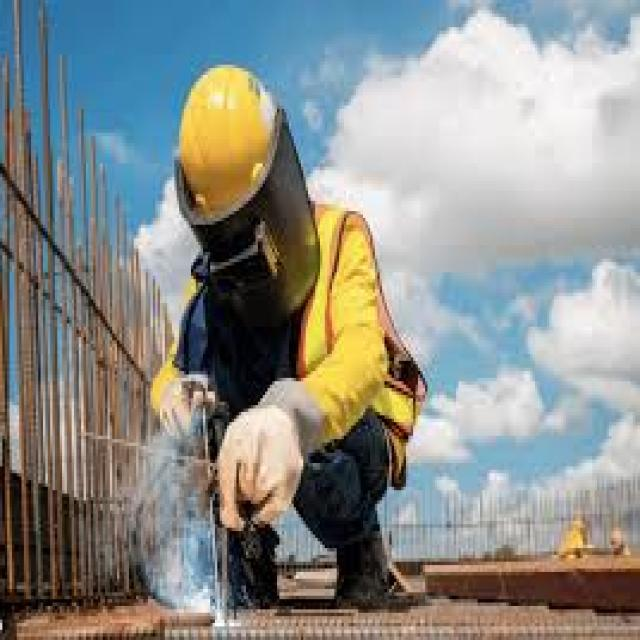welding: (215, 613, 240, 629), (191, 592, 211, 612)
